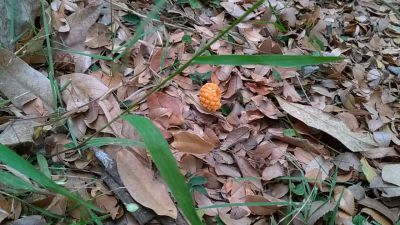eggs: (197, 82, 224, 114)
